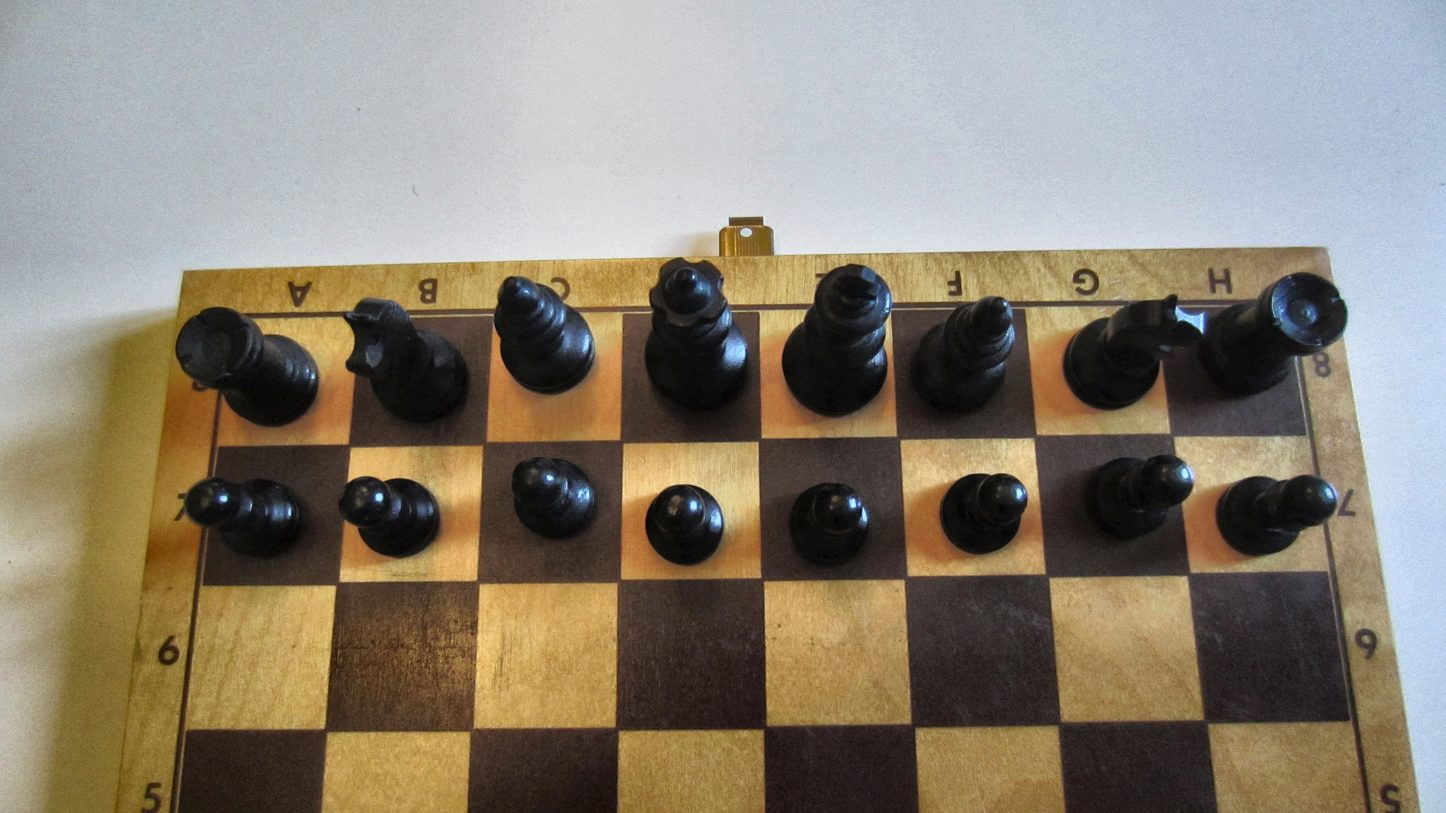black-bishop: (910, 296, 1017, 418), (489, 275, 597, 395)
black-king: (781, 262, 890, 417)
black-knight: (1061, 293, 1208, 413), (342, 295, 469, 423)
black-pawn: (1211, 472, 1338, 555), (1084, 453, 1195, 540), (184, 476, 300, 558), (336, 475, 441, 559), (936, 471, 1030, 554), (510, 456, 595, 540), (787, 482, 871, 566), (643, 482, 726, 565)
black-queen: (642, 256, 750, 409)
black-rook: (173, 305, 322, 429), (1202, 272, 1348, 395)
